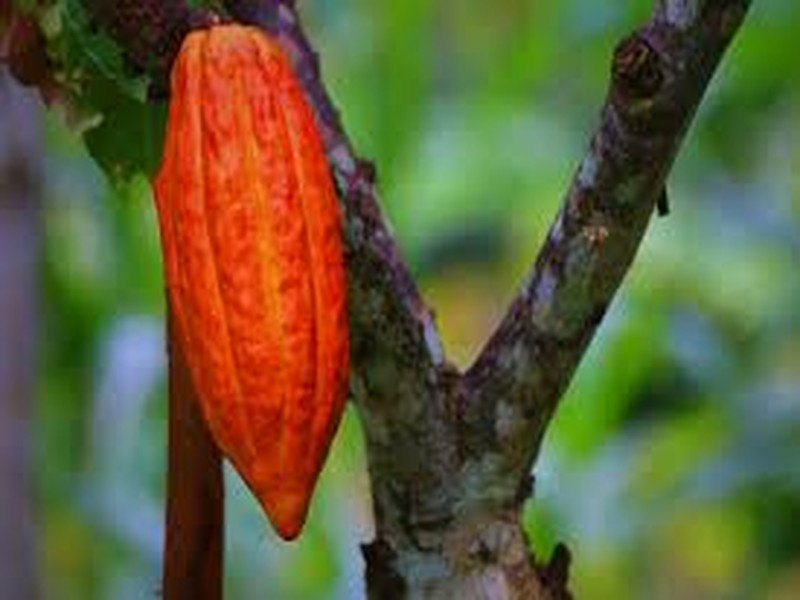Cacaopod: (162, 26, 349, 542)
